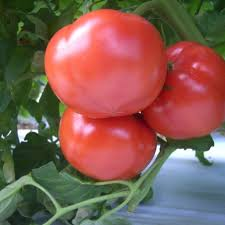tomato: (45, 8, 166, 115), (143, 41, 222, 139), (57, 106, 155, 182)
